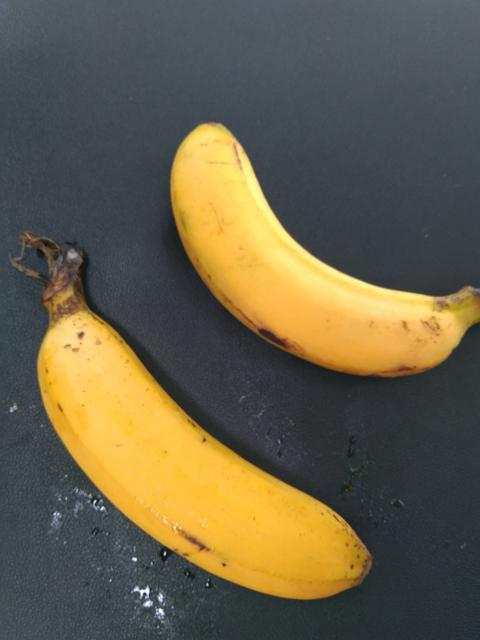freshripe: (22, 307, 385, 609), (163, 113, 479, 396)
